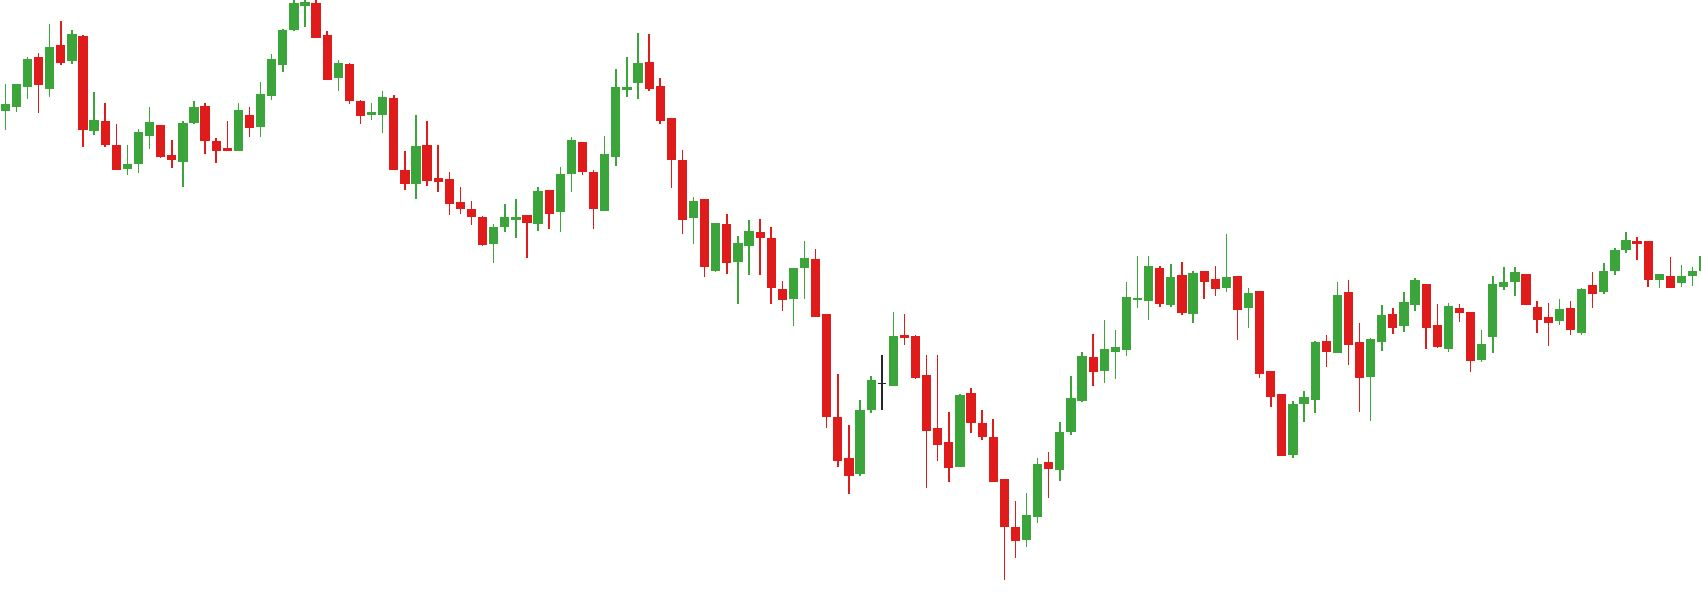buy: (121, 134, 189, 188)
sell: (55, 4, 321, 94)
